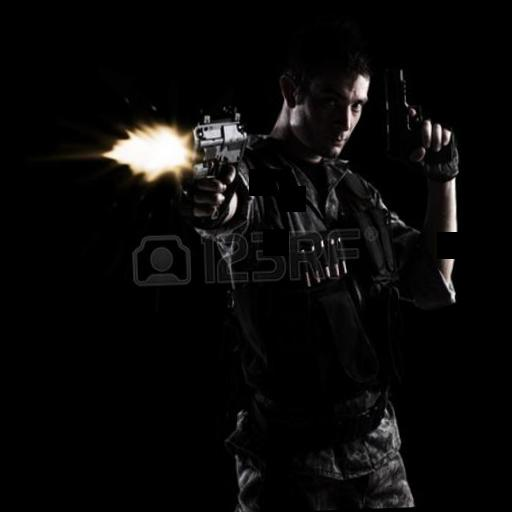Handgun: (366, 44, 458, 181), (160, 100, 248, 234)
